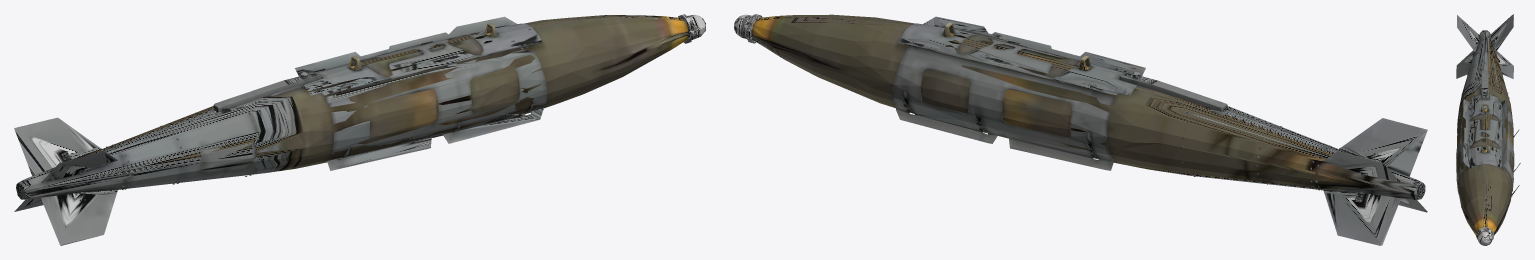
3 views of the same model, side by side, from view 1: azimuth 30°, elevation 25°; view 2: azimuth 150°, elevation 25°; view 3: azimuth 270°, elevation 25° (orthographic). The views are drawn at different scales.
Parts seen in each view (by area): view 1: Object_2; view 2: Object_2; view 3: Object_2.
Boxes of the visible parts, left/top/right/bottom form: Object_2: left=14, top=14, right=705, bottom=245; Object_2: left=734, top=14, right=1427, bottom=245; Object_2: left=1456, top=14, right=1520, bottom=245.
Bounding box in the file's own units: 3.84 × 0.5071 × 0.5071.
1 material, 1 textured.
